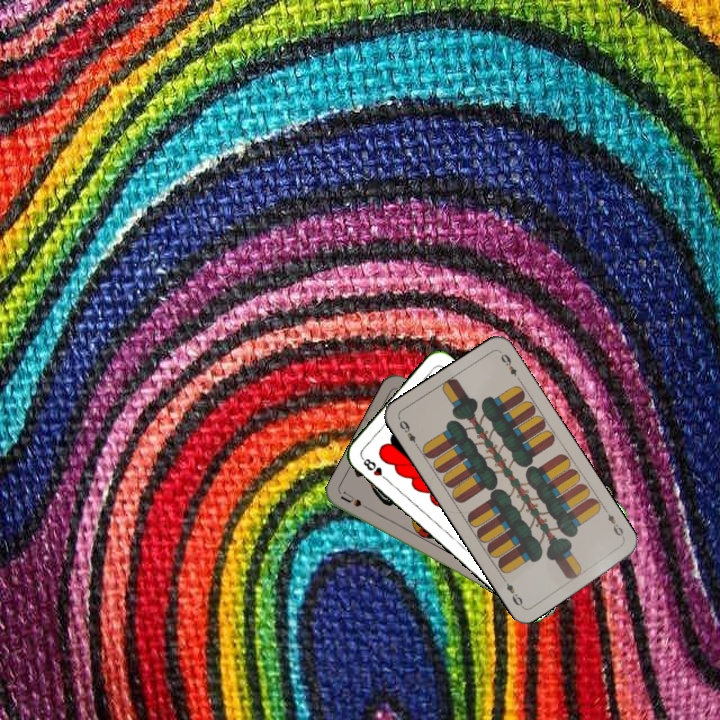E9: (395, 416, 422, 451), (601, 506, 627, 542)
H8: (357, 453, 391, 484)
SU: (337, 488, 376, 515)
